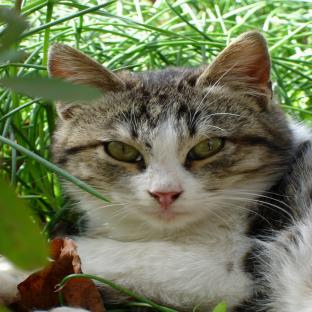Animal: (48, 31, 312, 312)
